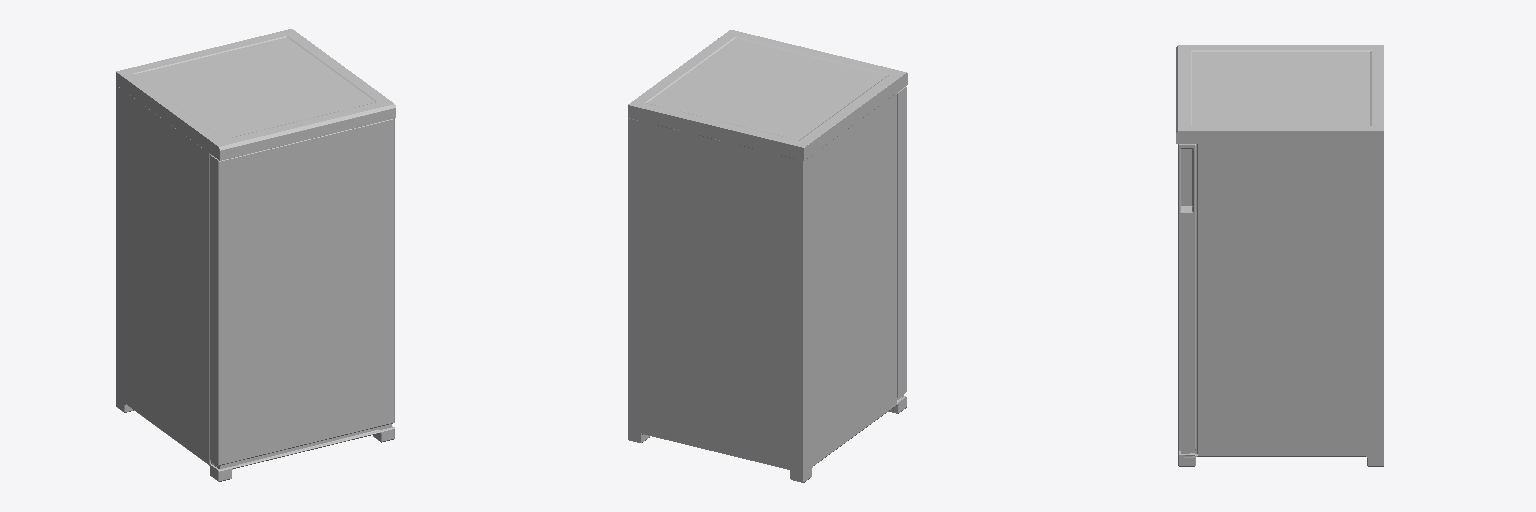
Rendered from fridgeMedgang_Small_ikea.obj.
3 renders of one model, left to right at view 1: azimuth 30°, elevation 25°; view 2: azimuth 150°, elevation 25°; view 3: azimuth 270°, elevation 25°, orthographic.
Visible parts, largest first — view 1: fridge_export_Cube; view 2: fridge_export_Cube; view 3: fridge_export_Cube.
Part boxes in pixels (left/top/right/bottom): fridge_export_Cube: left=116, top=29, right=395, bottom=481; fridge_export_Cube: left=628, top=30, right=907, bottom=482; fridge_export_Cube: left=1176, top=45, right=1383, bottom=466.
Size of the model in its own units: 0.5003 by 0.9102 by 0.5128.